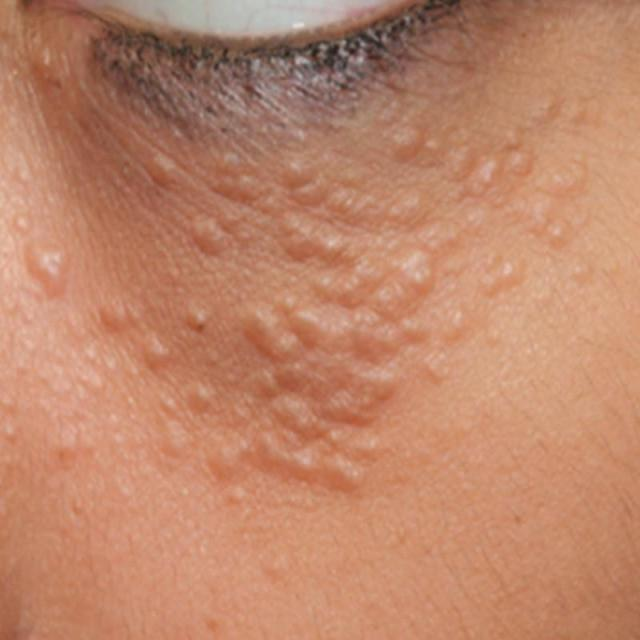syringoma: (212, 152, 422, 499), (372, 68, 600, 308), (6, 182, 107, 317)
